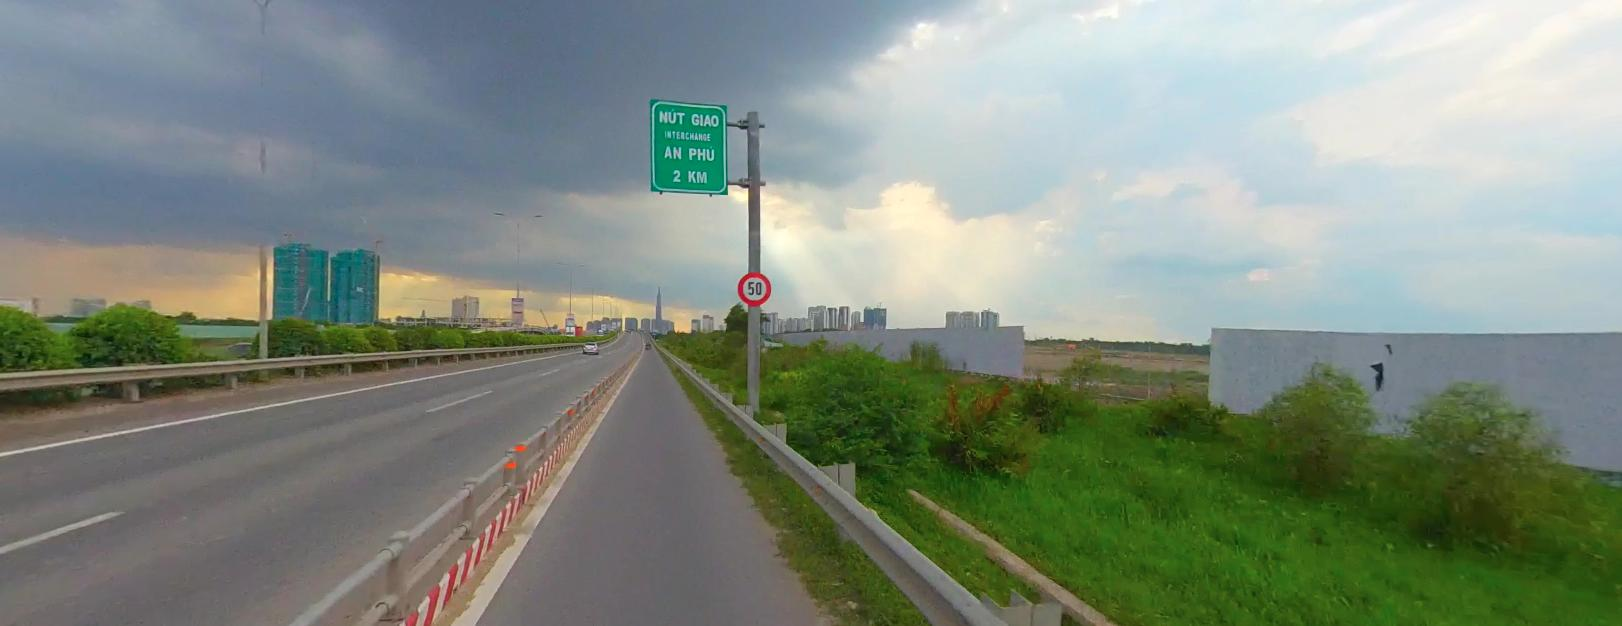Gioi han toc do: (735, 269, 772, 306)
